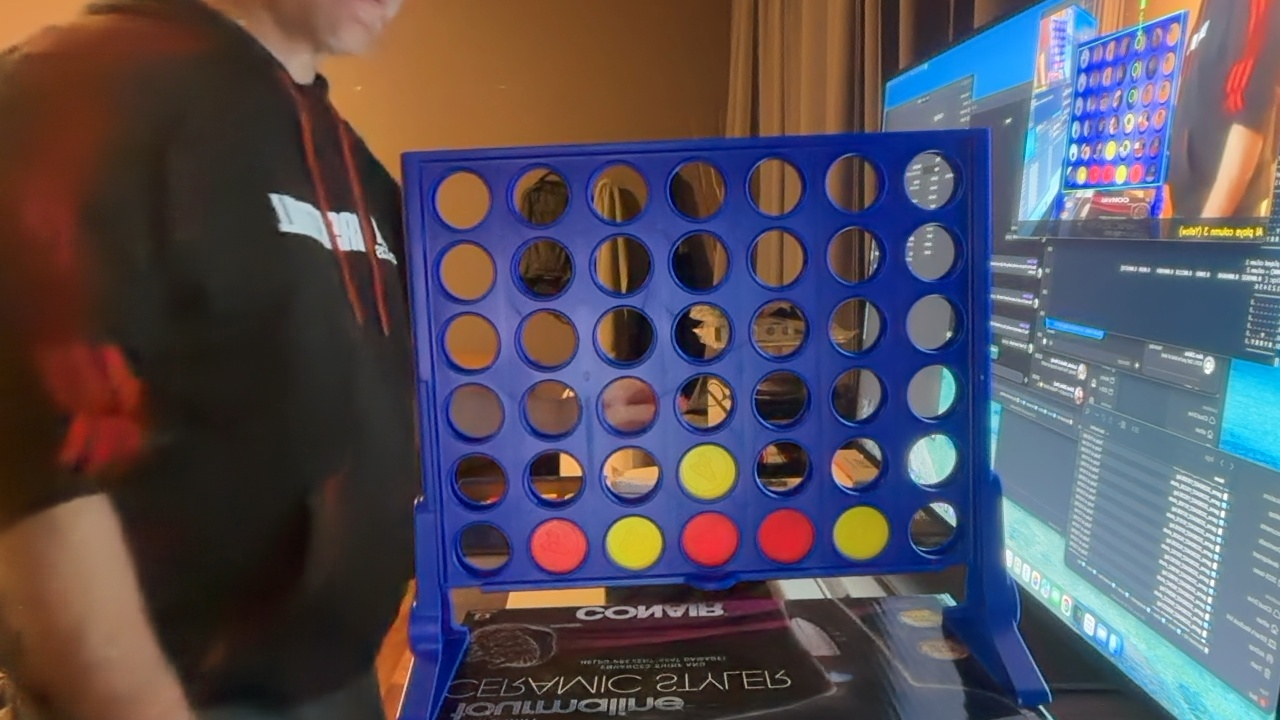red piece: (681, 512, 739, 567), (757, 509, 815, 563), (530, 519, 587, 573)
yellow piece: (678, 444, 737, 500), (605, 516, 663, 570), (833, 506, 889, 560)
